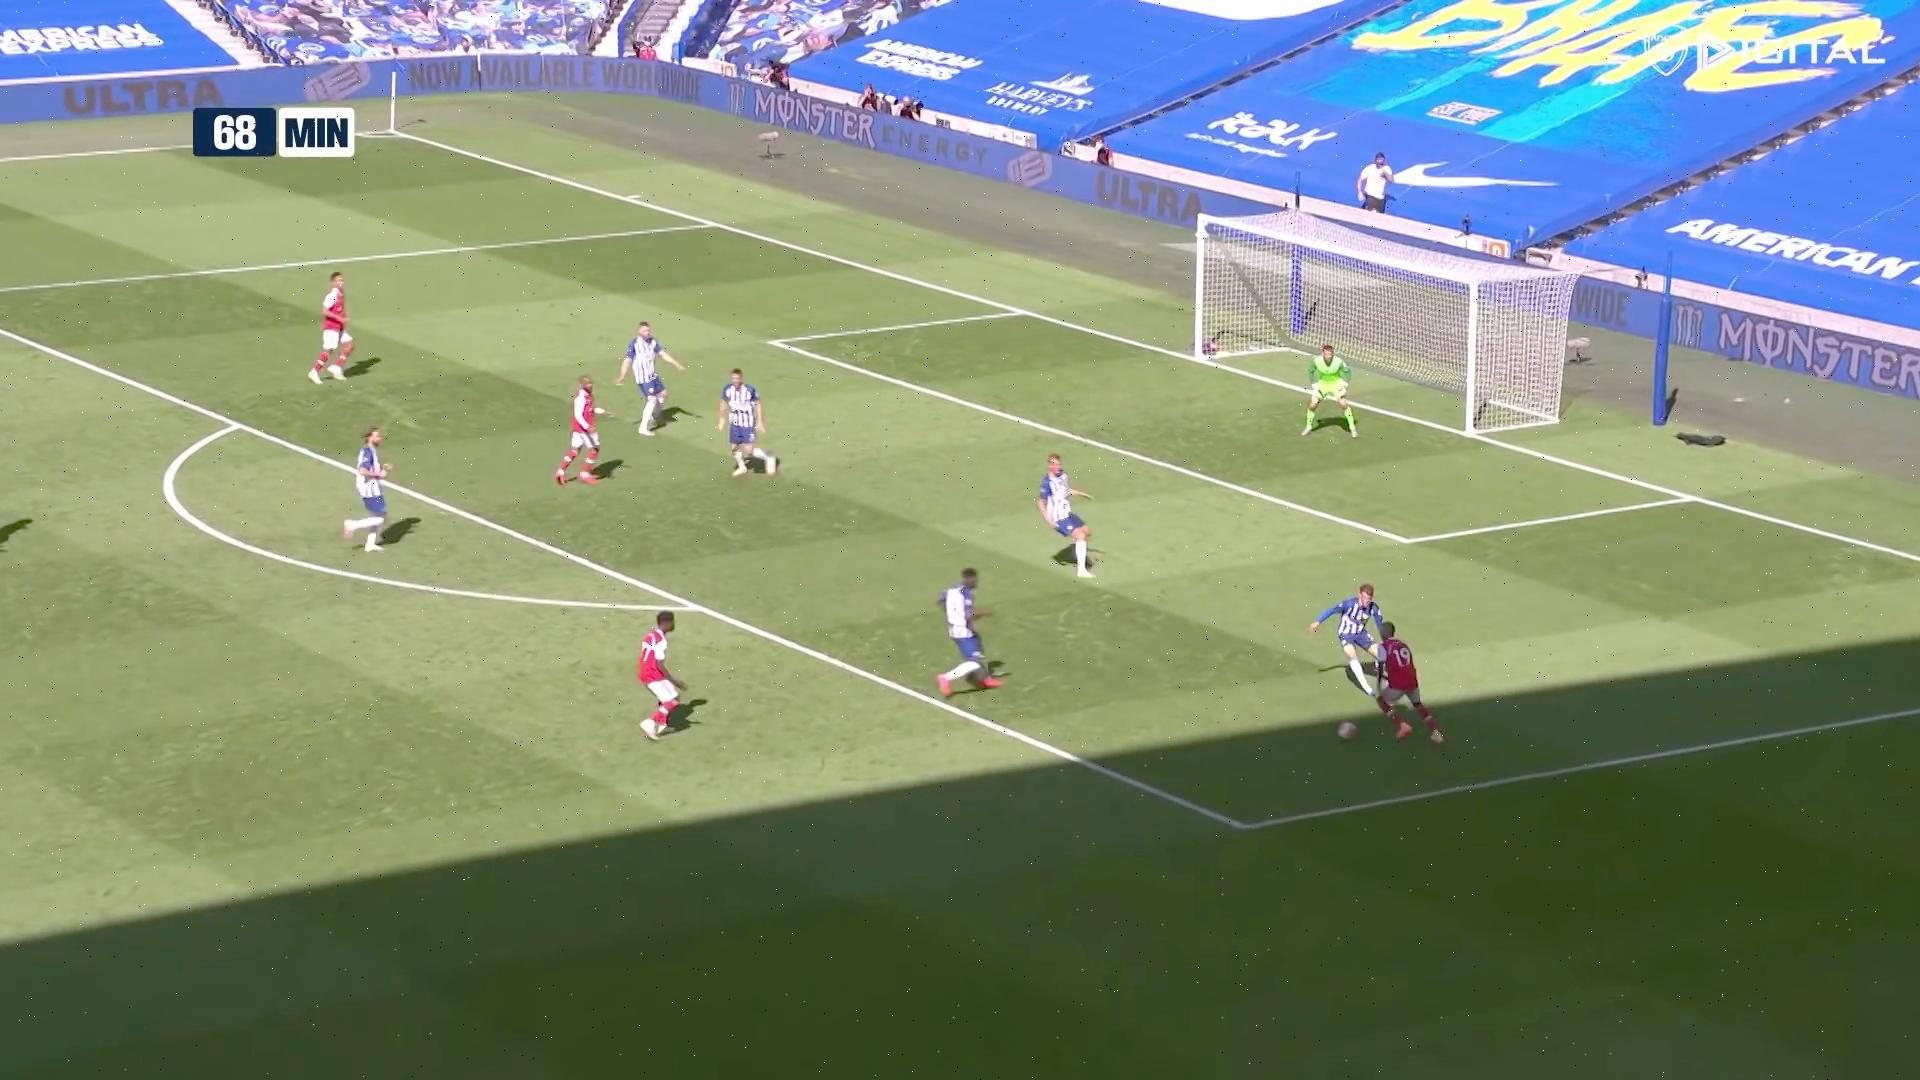ball: (1337, 721, 1359, 742)
